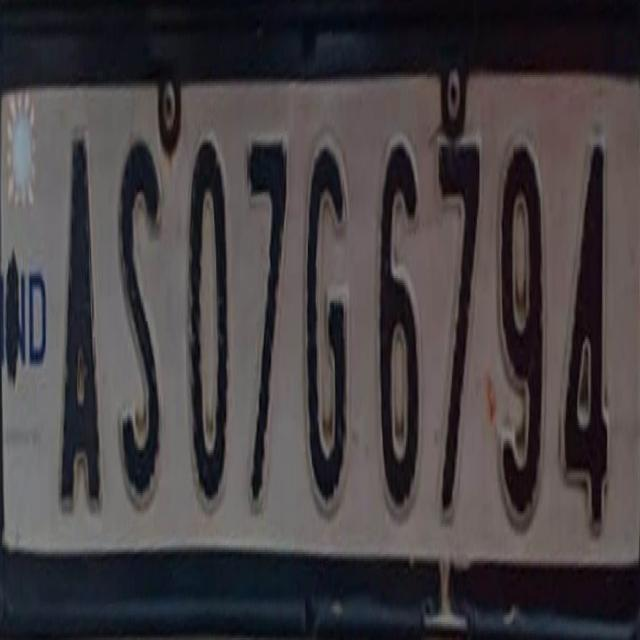0: (181, 101, 233, 523)
4: (558, 96, 615, 553)
6: (370, 89, 424, 553)
7: (434, 81, 484, 549), (239, 86, 289, 537)
9: (488, 109, 548, 557)
A: (53, 79, 107, 553)
G: (301, 99, 355, 539)
S: (110, 91, 170, 527)
